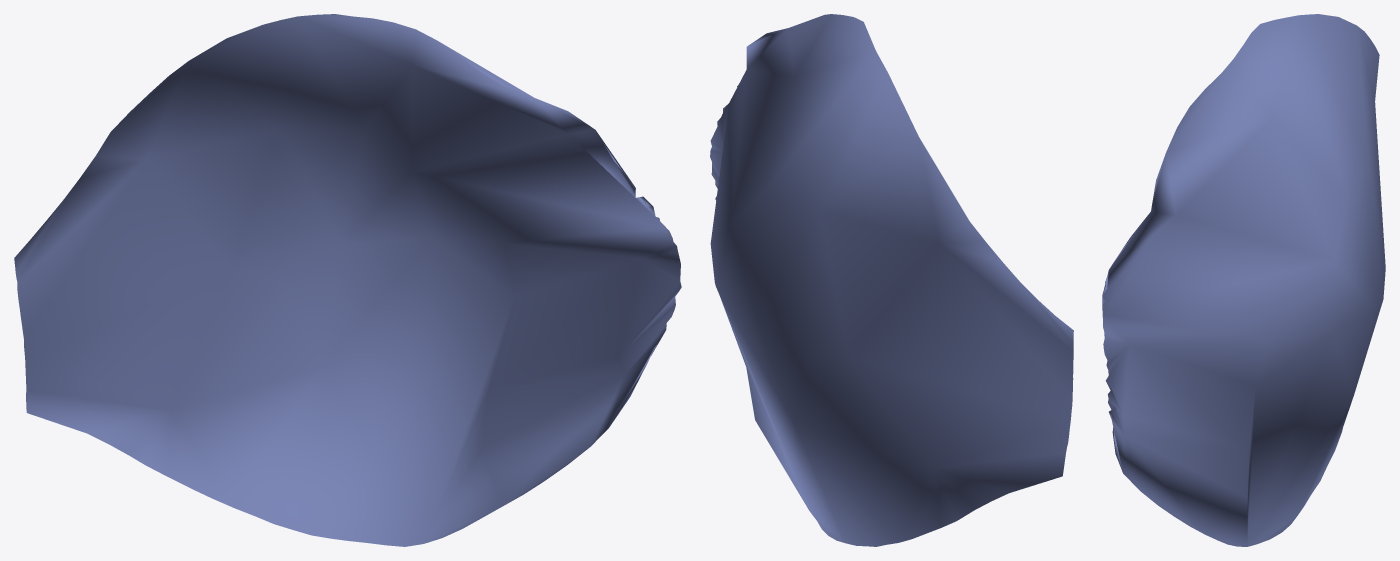
File: anemone_petal_edit_low.fbx
3 views of the same model, side by side, from view 1: azimuth 30°, elevation 25°; view 2: azimuth 150°, elevation 25°; view 3: azimuth 270°, elevation 25° (orthographic). The views are drawn at different scales.
Visible parts, largest first — view 1: flower_petals_low; view 2: flower_petals_low; view 3: flower_petals_low.
Boxes of the visible parts, x1,y1,x2,y2 form: flower_petals_low: (14, 14, 681, 546); flower_petals_low: (710, 14, 1073, 546); flower_petals_low: (1102, 14, 1385, 546).
Size of the model in its own units: 5.97 by 5.89 by 3.04.
